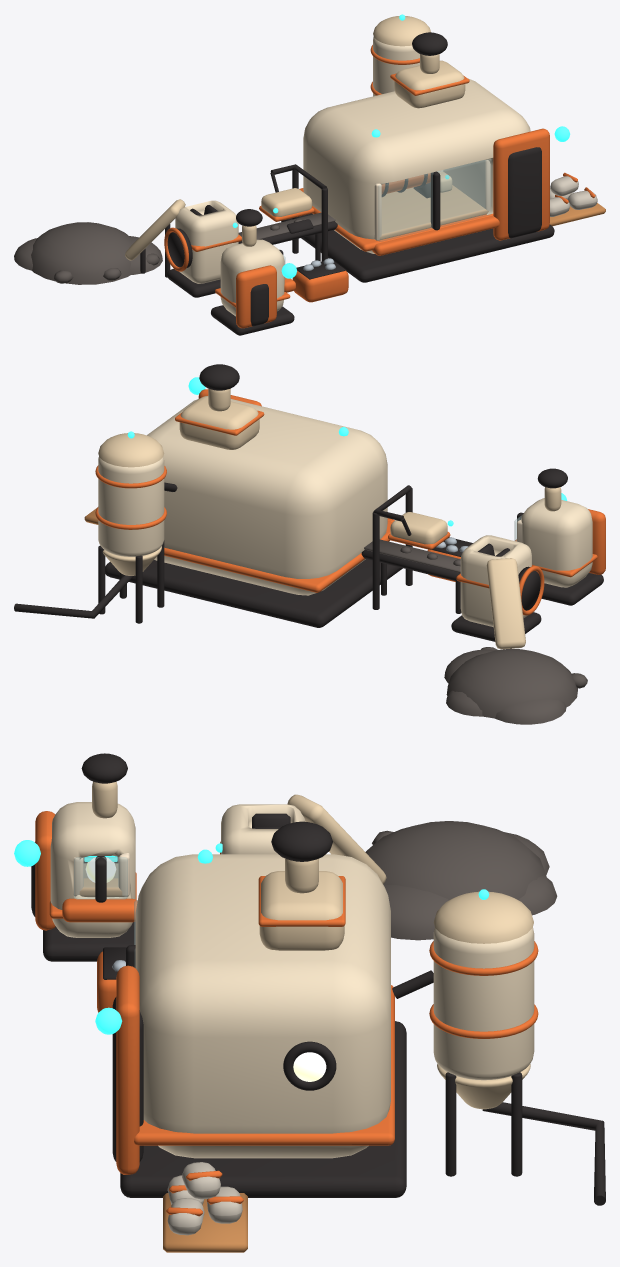
The model's file is slagmill.glb.
3 views of the same model, one above another, from view 1: azimuth 30°, elevation 25°; view 2: azimuth 150°, elevation 25°; view 3: azimuth 270°, elevation 25° (orthographic). The views are drawn at different scales.
Visible parts, largest first — view 1: Cube.001, Cube, Cube.010, Cube.024, Cone, Cube.009, Cube.003, Cube.002, Cube.045, Cube.044, Cube.037; view 2: Cube.001, Cube, Cone, Cube.024, Cube.010; view 3: Cube.001, Cube, Cube.010, Cone, Cube.024, Cube.045, Cube.044, Cube.009, Cube.037, Cube.002, Cylinder.004.
Boxes of the visible parts, x1,y1,x2,y2 form: Cube.001: (175,36,530,316); Cube: (140,32,554,335); Cube.010: (164,45,595,328); Cube.024: (14,212,335,284); Cone: (125,16,465,260); Cube.009: (283,159,491,279); Cube.003: (379,185,488,239); Cube.002: (374,160,490,240); Cube.045: (550,176,597,216); Cube.044: (549,203,605,226); Cube.037: (232,14,570,278); Cube.001: (98,399,592,626); Cube: (14,364,603,648); Cone: (98,388,561,649); Cube.024: (364,539,587,724); Cube.010: (95,389,605,615); Cube.001: (50,802,534,1158); Cube: (31,753,605,1205); Cube.010: (35,811,538,1216); Cone: (92,781,533,1109); Cube.024: (365,821,557,940); Cube.045: (167,1162,242,1235); Cube.044: (163,1193,247,1252); Cube.009: (74,857,137,967); Cube.037: (14,840,489,1034); Cube.002: (73,853,129,897); Cylinder.004: (293,1052,326,1081).
Size of the model in its own units: 2.53 by 0.894 by 1.53.
